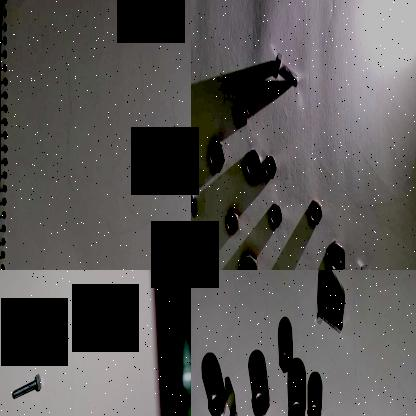Bolts: (269, 47, 301, 92), (316, 296, 344, 337), (10, 372, 44, 402), (191, 160, 198, 220), (337, 262, 371, 270)
NUTS: (204, 141, 228, 175), (242, 144, 262, 184), (325, 237, 349, 270), (236, 244, 259, 270), (207, 387, 227, 416), (223, 205, 242, 235), (251, 386, 270, 416), (307, 194, 324, 226), (277, 344, 293, 376), (265, 201, 283, 228), (234, 100, 249, 130), (262, 148, 276, 180), (286, 395, 306, 416), (306, 398, 322, 416), (191, 247, 202, 270)
